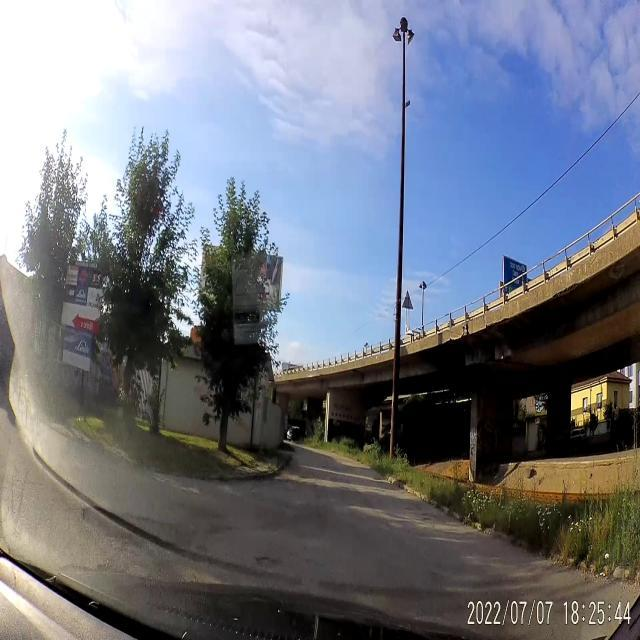Pothole: (414, 503, 436, 528), (251, 551, 278, 571)
